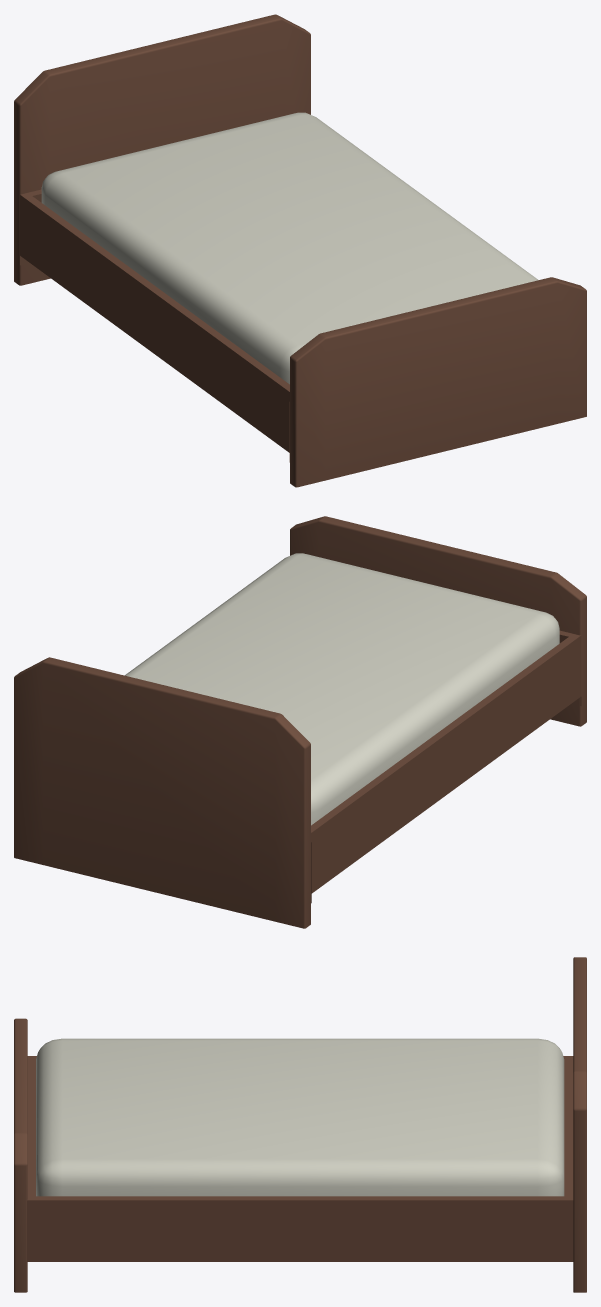
The model's file is KingsizeBed.fbx.
3 renders of one model, top to bottom at view 1: azimuth 30°, elevation 25°; view 2: azimuth 150°, elevation 25°; view 3: azimuth 270°, elevation 25°, orthographic.
Visible parts, largest first — view 1: Bed Base, Bed Matres; view 2: Bed Base, Bed Matres; view 3: Bed Matres, Bed Base.
Part boxes in pixels (left/top/right/bottom): Bed Base: left=14, top=14, right=586, bottom=487; Bed Matres: left=41, top=112, right=538, bottom=384; Bed Base: left=14, top=516, right=586, bottom=928; Bed Matres: left=125, top=553, right=559, bottom=825; Bed Matres: left=36, top=1038, right=564, bottom=1196; Bed Base: left=14, top=957, right=586, bottom=1292.
Size of the model in its own units: 1.5 by 1 by 2.52.
